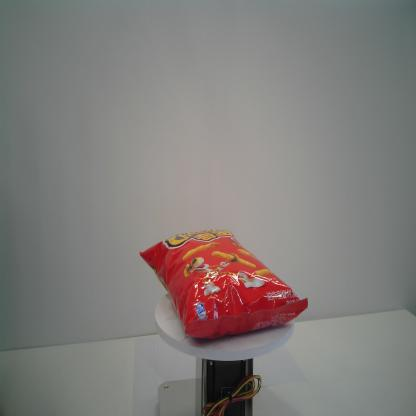Puffed Food: (138, 227, 309, 342)
